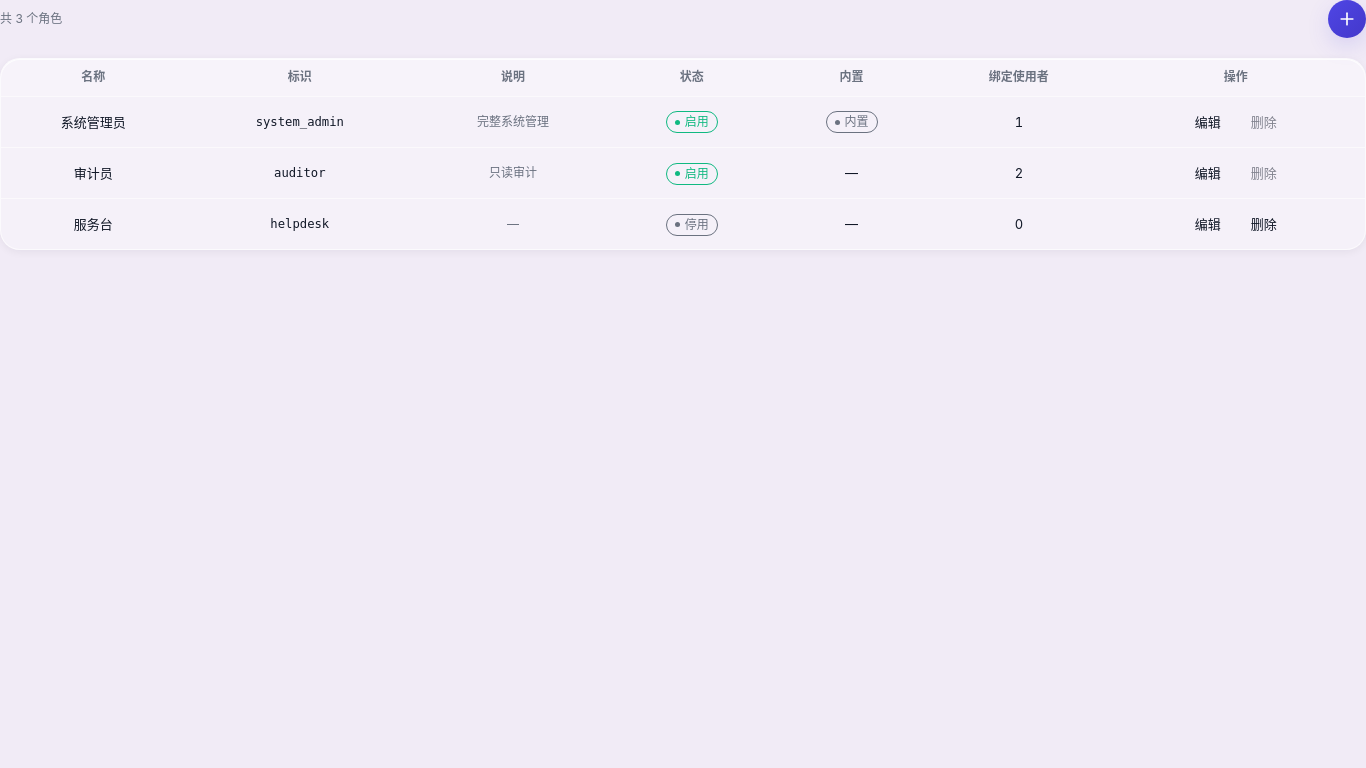
角色管理 › 内置角色可打开弹窗查看，但字段与保存都锁定，并写明原因
Check: the text "系统管理员" is shown, box [1, 96, 186, 147]
Click the button with aria-label "编辑角色 系统管理员". click: (1208, 122)
box: [1184, 106, 1232, 138]
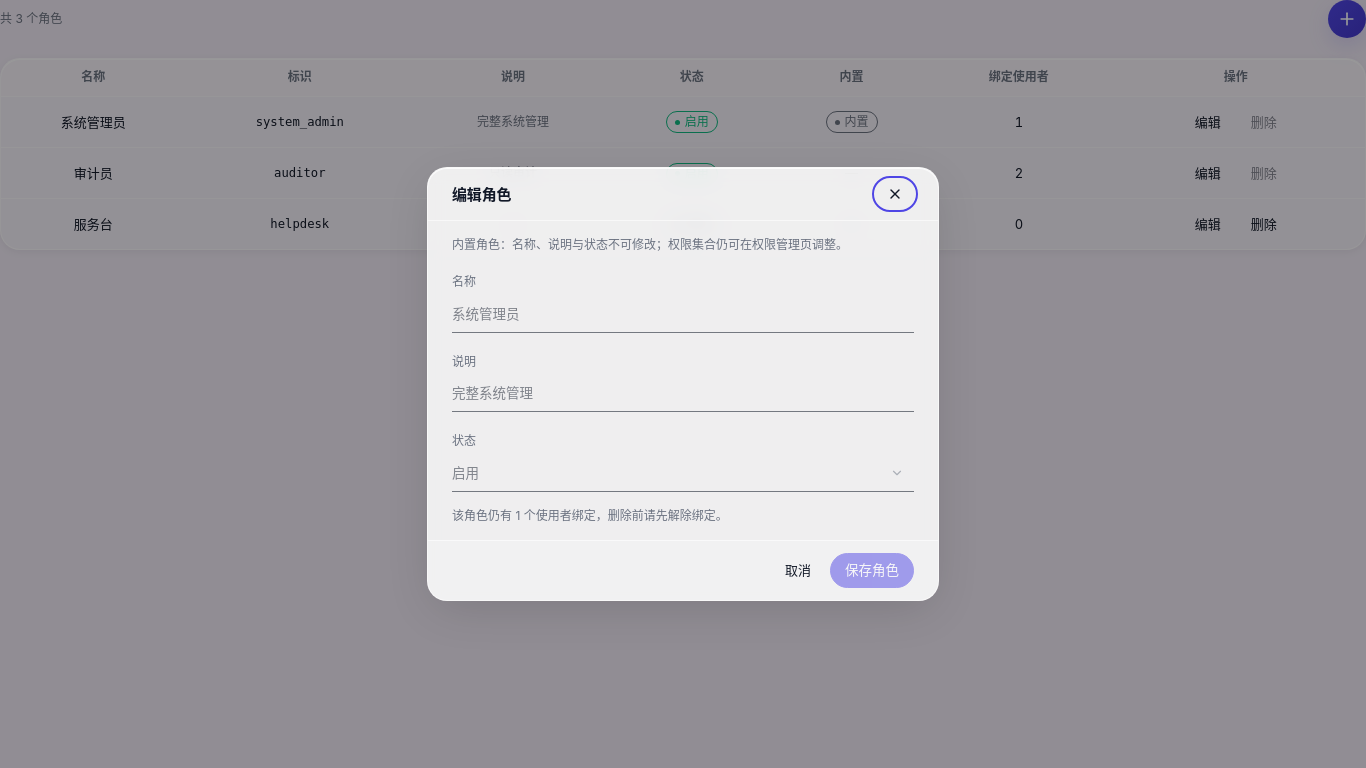
Check: the text "内置角色：名称、说明与状态不可修改；权限集合仍可在权限管理页调整。" is shown, box [452, 237, 914, 253]
Check: the field labelled "名称" is disabled, box [452, 297, 914, 332]
Check: the dropdown named "状态" is disabled, box [452, 456, 914, 491]
